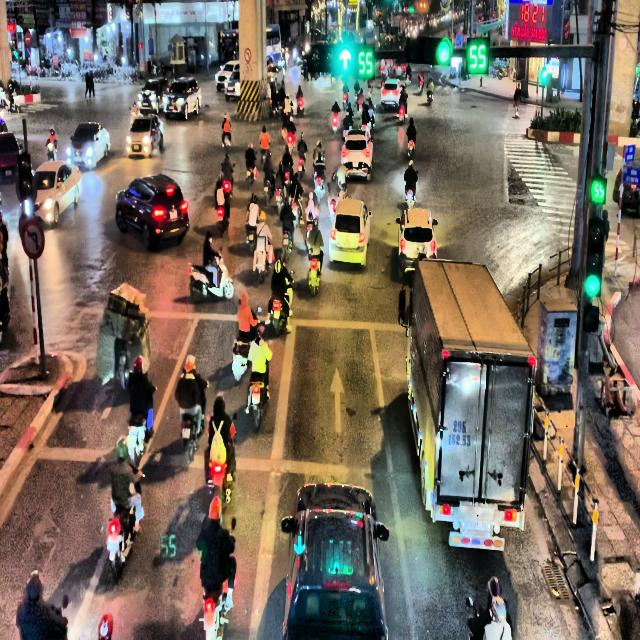lisence_plate: (448, 528, 505, 552), (449, 420, 472, 447), (342, 235, 352, 247), (169, 208, 178, 217), (352, 160, 358, 168)
